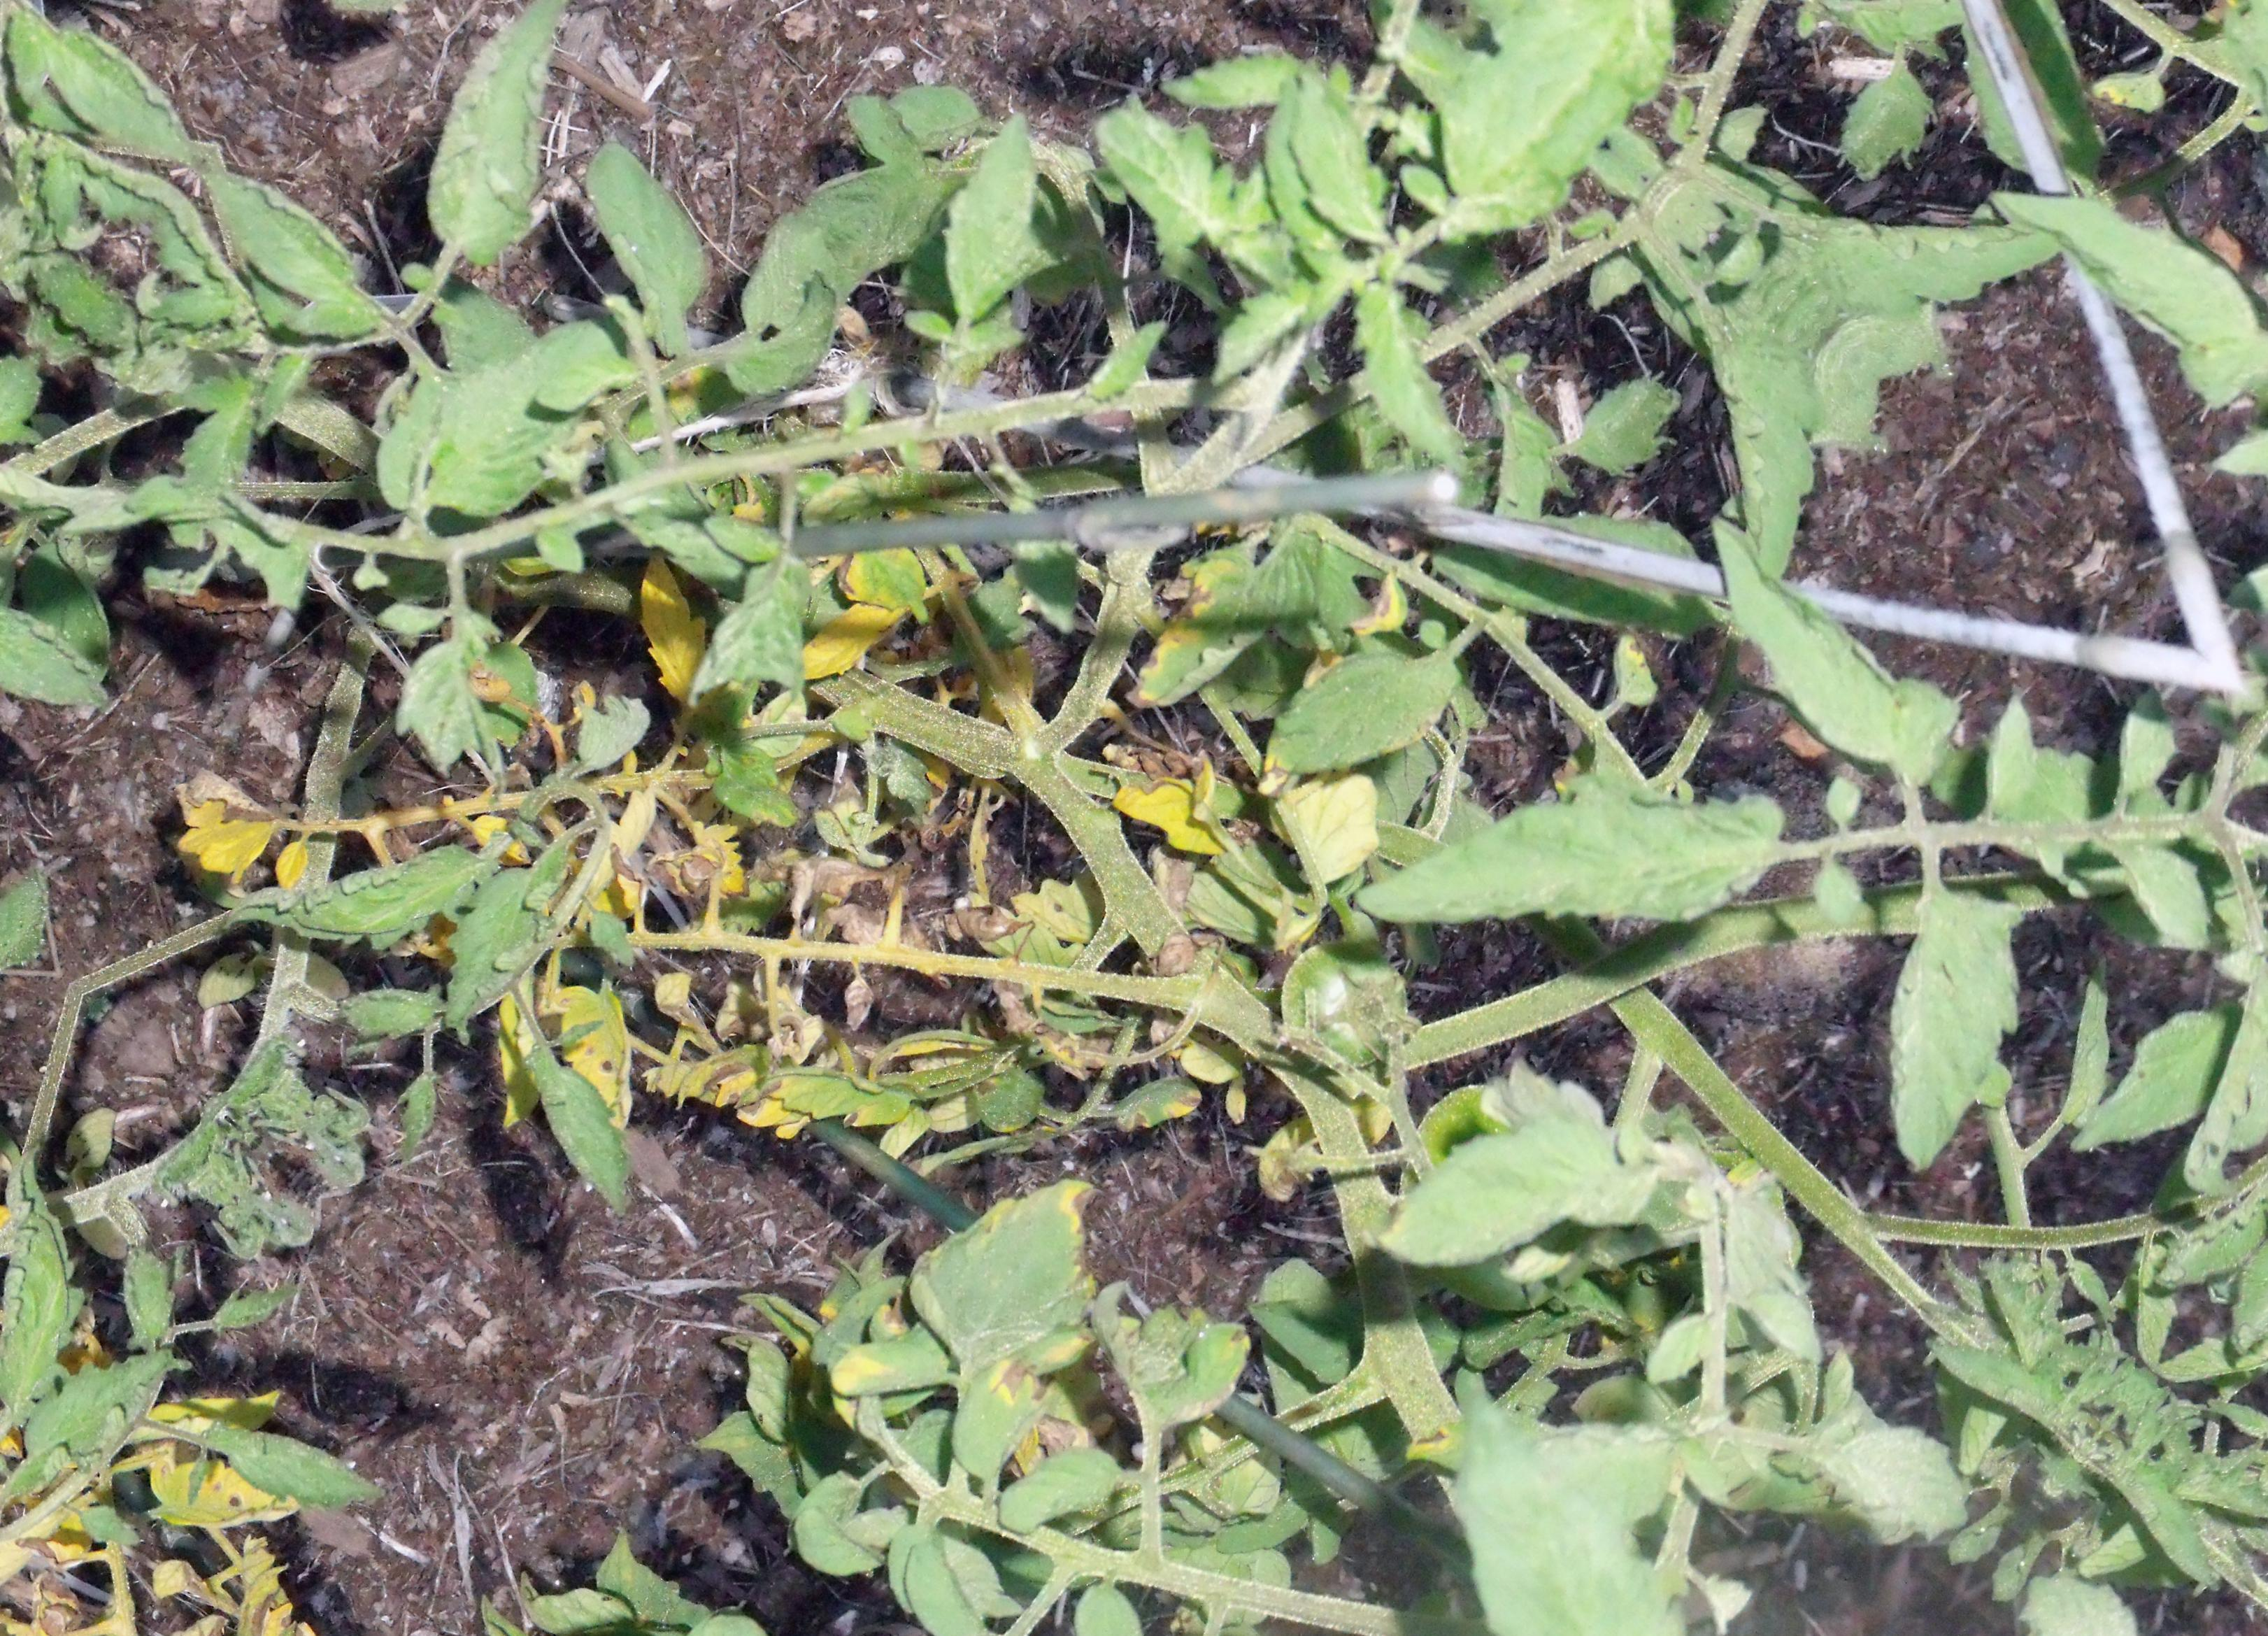Tomato leaf bacterial spot: (1361, 641, 1826, 1111), (1624, 470, 2016, 842), (1791, 844, 2145, 1212), (1349, 1014, 1694, 1370), (1037, 41, 1389, 375), (1062, 449, 1393, 787), (850, 1118, 1178, 1448), (831, 86, 1150, 407), (250, 727, 551, 1043), (488, 111, 799, 414), (1192, 560, 1488, 865), (1041, 1219, 1305, 1492)
